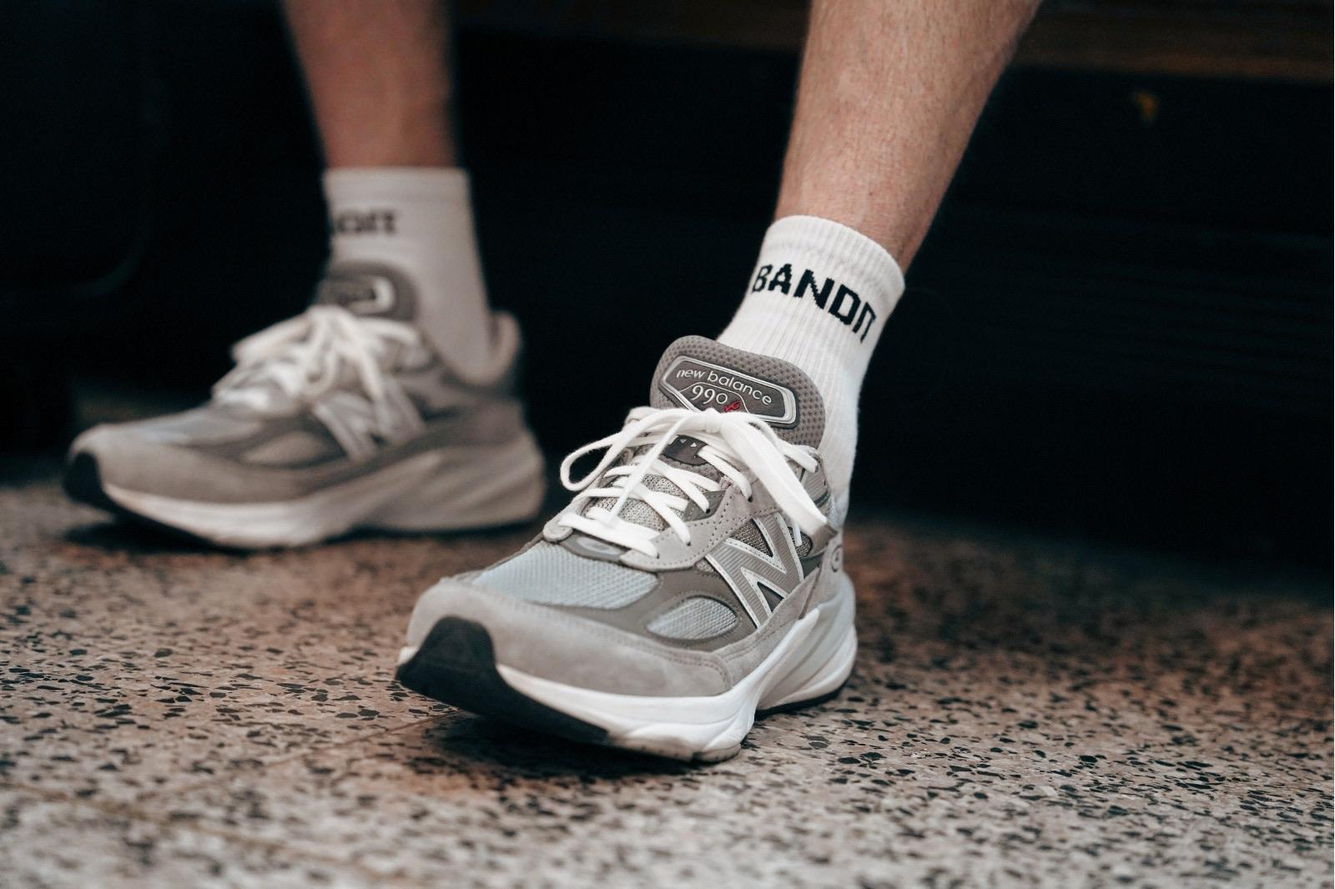NB logo: (689, 502, 811, 634), (296, 361, 439, 471)
sock logo: (720, 229, 907, 441), (327, 170, 491, 340)
